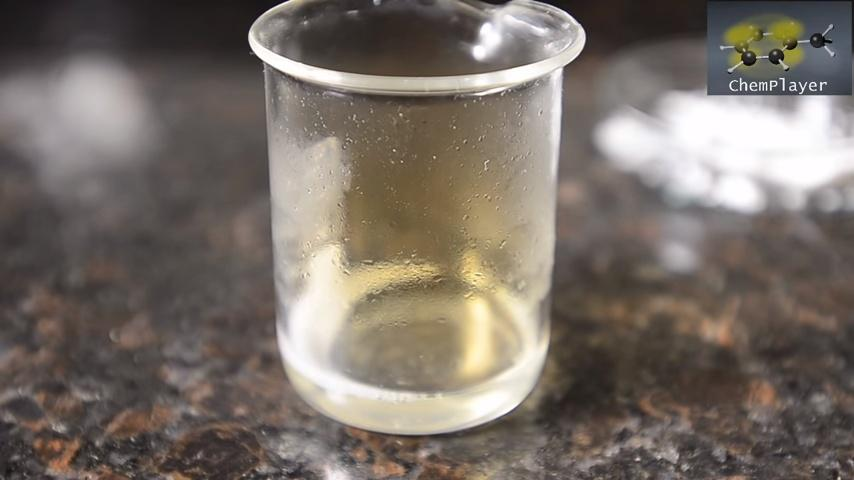Beaker: (214, 10, 646, 443)
